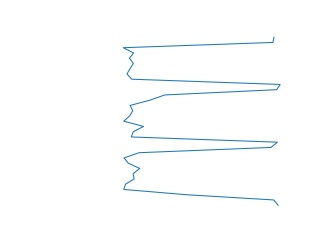majorRiverChannelBar: (118, 38, 288, 205)
